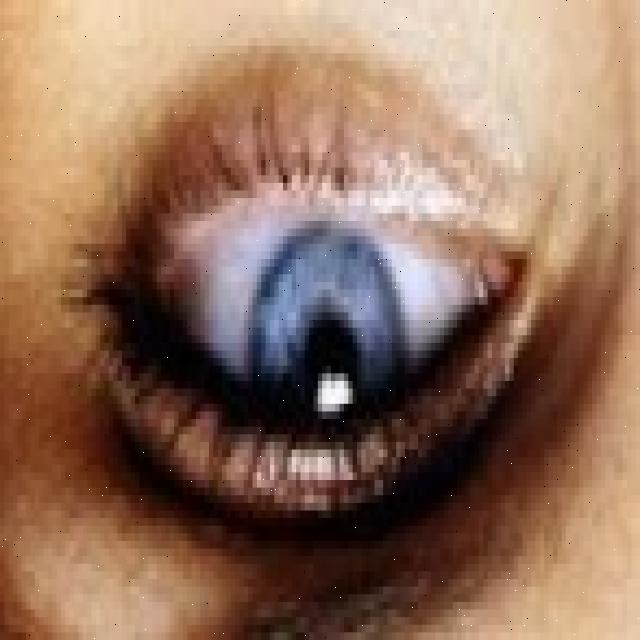Normal: (244, 226, 411, 480)
